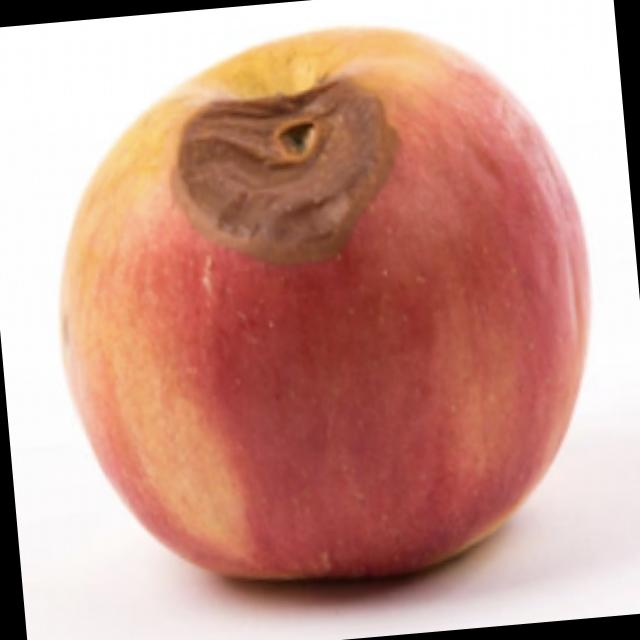rotten_apple: (33, 8, 618, 608)
